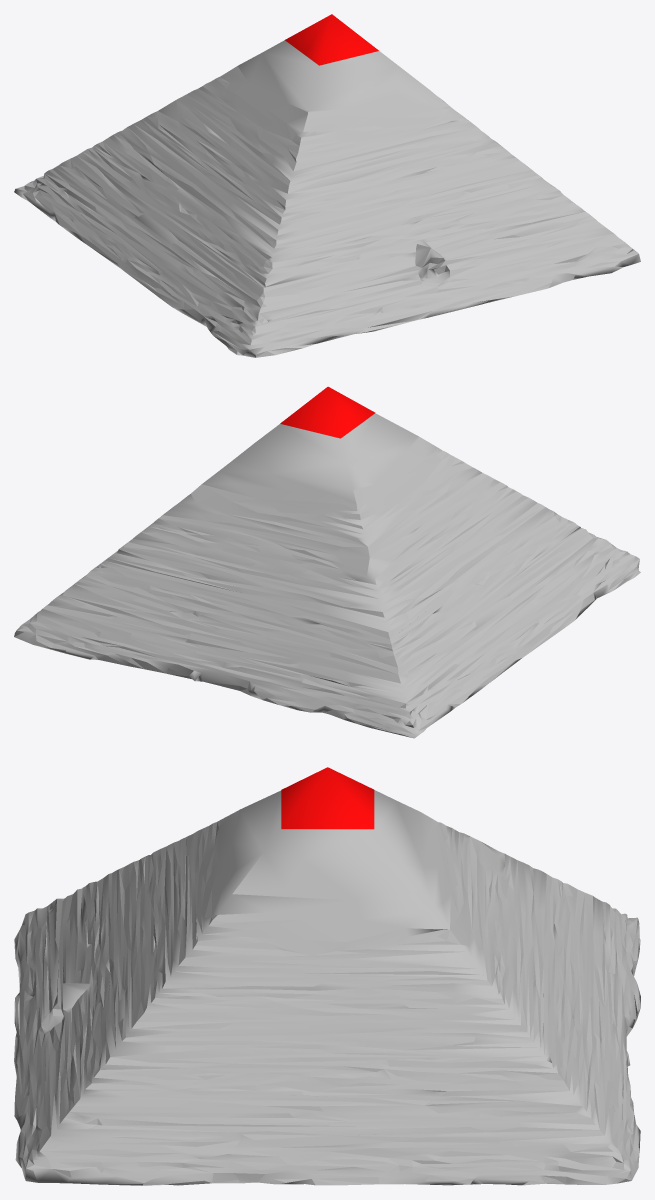
Rendered from egypt_pyramid.glb.
3 views of the same model, one above another, from view 1: azimuth 30°, elevation 25°; view 2: azimuth 150°, elevation 25°; view 3: azimuth 270°, elevation 25° (orthographic). The views are drawn at different scales.
Parts seen in each view (by area): view 1: Pyramid_LOD0; view 2: Pyramid_LOD0; view 3: Pyramid_LOD0.
Boxes of the visible parts, box(x1,y1,x2,y2) form: Pyramid_LOD0: box(14, 14, 640, 357); Pyramid_LOD0: box(14, 386, 640, 738); Pyramid_LOD0: box(14, 767, 640, 1185).
Size of what is drawn, in the model's own units: 22.81 by 11.5 by 22.8.
